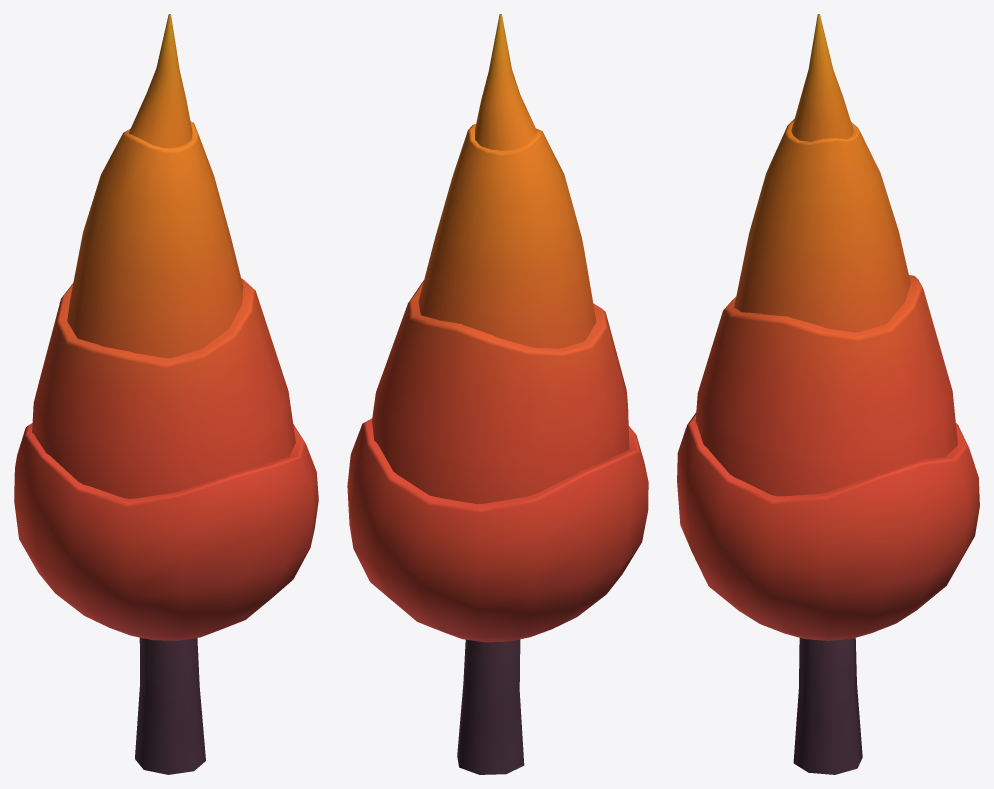
The model's file is tree_autumn_2b.fbx.
3 renders of one model, left to right at view 1: azimuth 30°, elevation 25°; view 2: azimuth 150°, elevation 25°; view 3: azimuth 270°, elevation 25°, orthographic.
Parts seen in each view (by area): view 1: model_0.002; view 2: model_0.002; view 3: model_0.002.
Boxes of the visible parts, left/top/right/bottom form: model_0.002: left=14, top=14, right=318, bottom=774; model_0.002: left=347, top=14, right=648, bottom=774; model_0.002: left=677, top=14, right=979, bottom=774.
Bounding box in the file's own units: 95.2 × 257 × 94.99.
